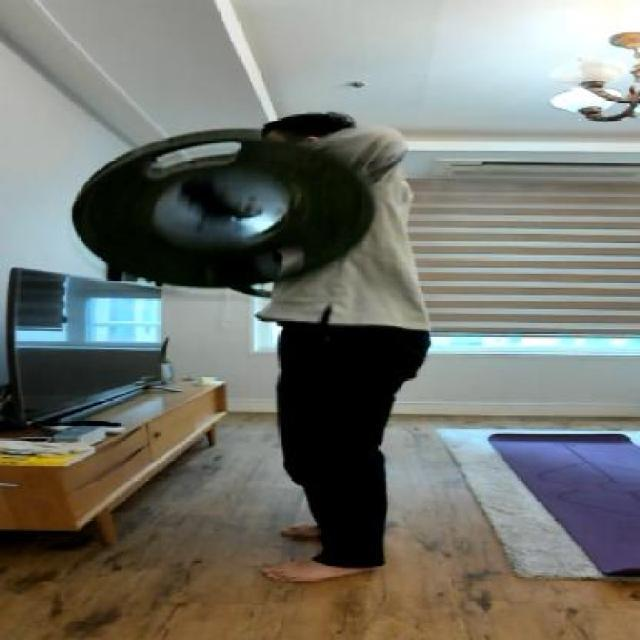barbell: (58, 119, 393, 300)
